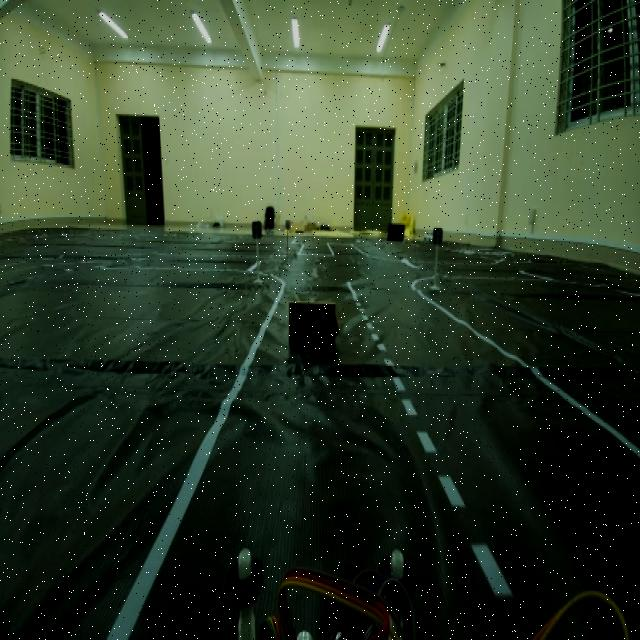roadblock: (281, 292, 345, 373)
